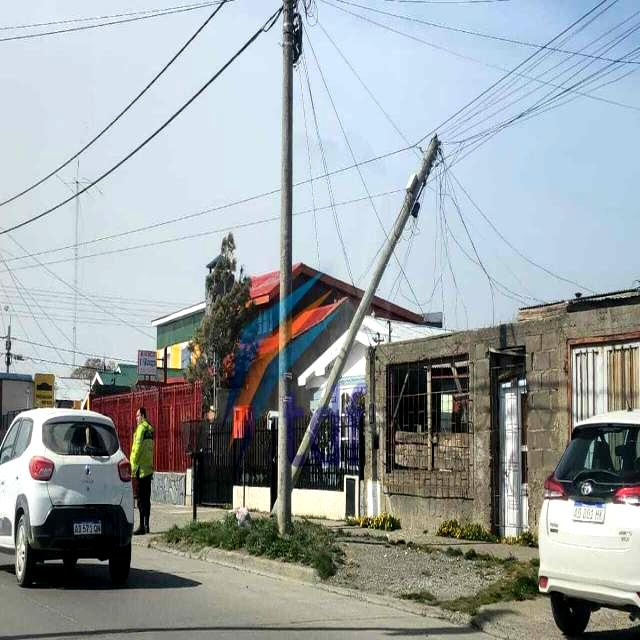Broken Pole: (269, 136, 440, 515)
